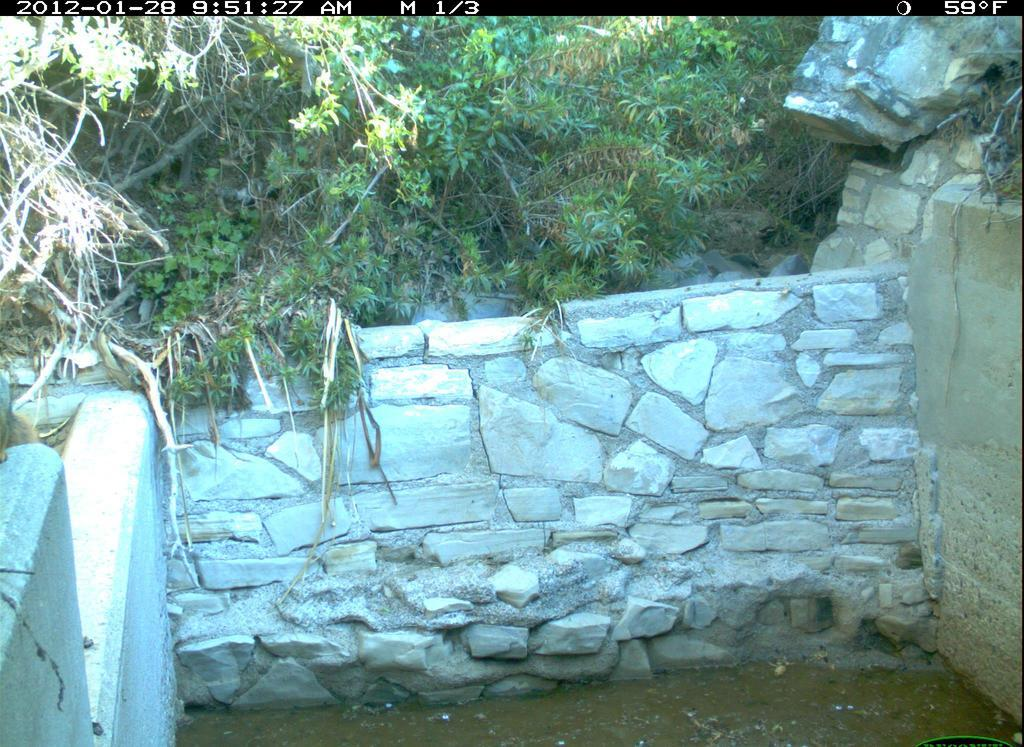squirrel: (1, 387, 45, 460)
